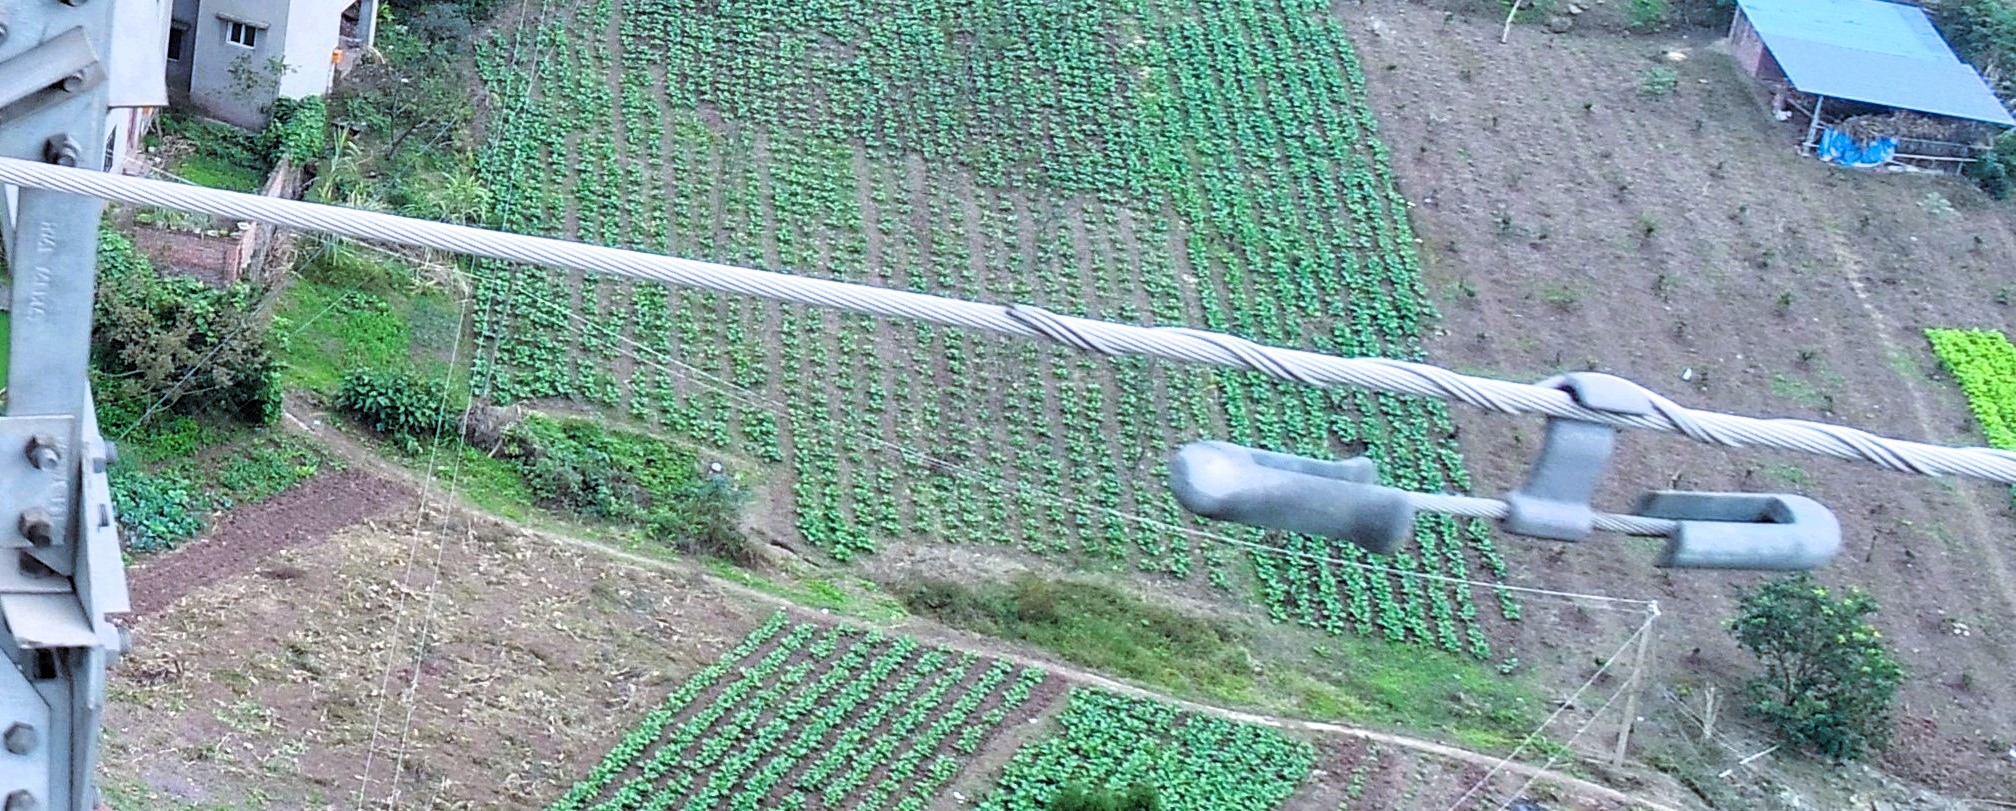Shockproof hammer: (1119, 317, 1851, 604)
